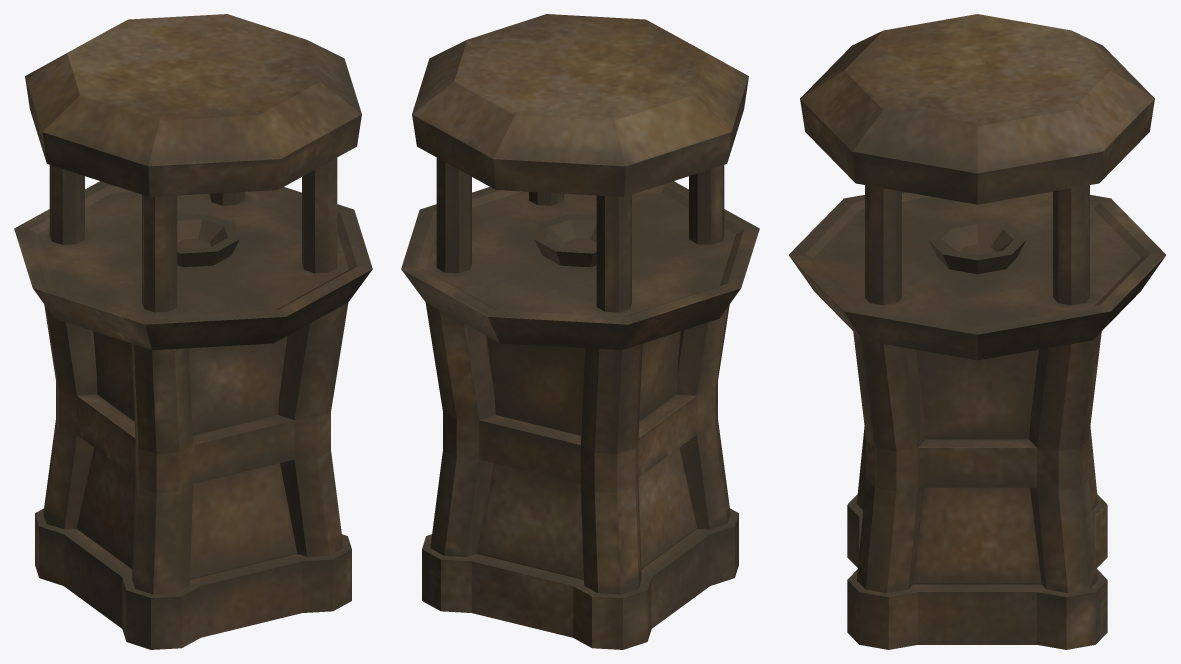
Rendered from Shadow puzzle Altar .fbx.
3 views of the same model, side by side, from view 1: azimuth 30°, elevation 25°; view 2: azimuth 150°, elevation 25°; view 3: azimuth 270°, elevation 25° (orthographic).
Parts seen in each view (by area): view 1: RewardAltar; view 2: RewardAltar; view 3: RewardAltar.
Boxes of the visible parts, bbox=[...] form: RewardAltar: bbox=[14, 14, 372, 649]; RewardAltar: bbox=[401, 14, 759, 649]; RewardAltar: bbox=[789, 14, 1165, 649].
Bounding box in the file's own units: 200 × 307 × 200.
Materials: 1 (1 with a texture image).
